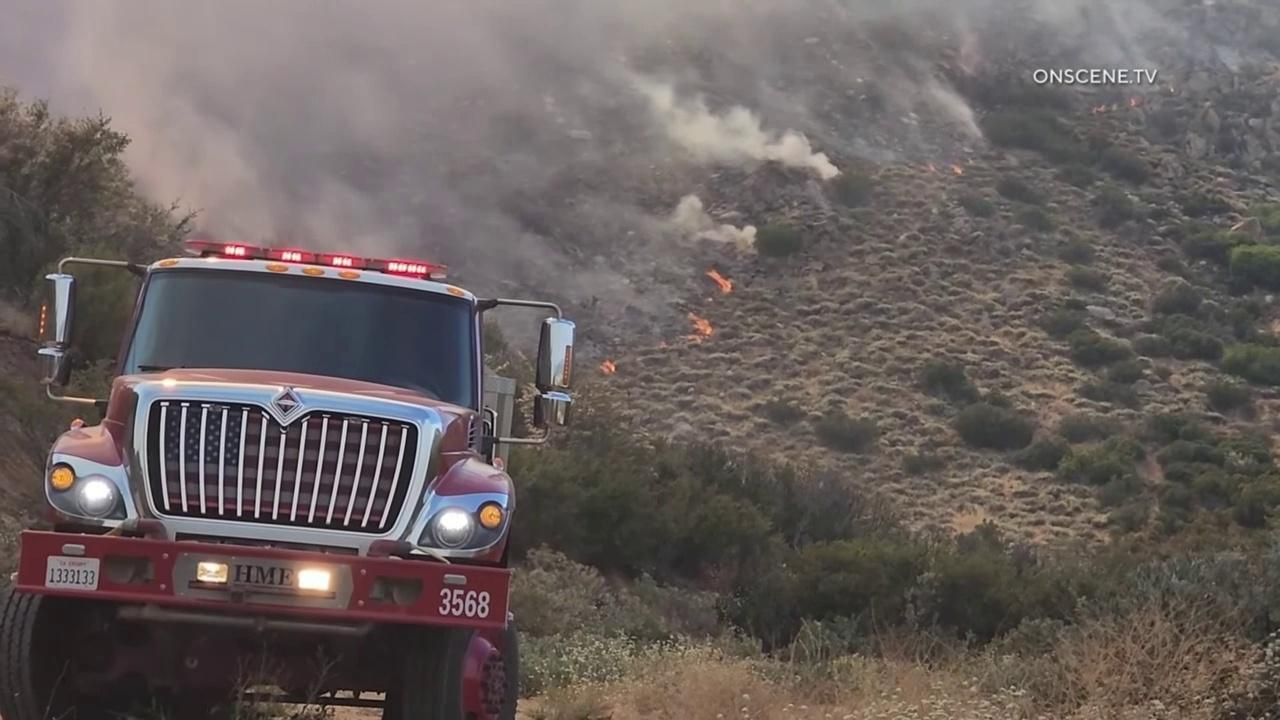fire: (676, 311, 715, 349), (704, 267, 733, 295), (596, 357, 618, 375), (947, 162, 967, 177), (1091, 102, 1108, 115), (924, 163, 940, 175), (1127, 95, 1138, 108)
smoke: (0, 0, 1280, 400)
